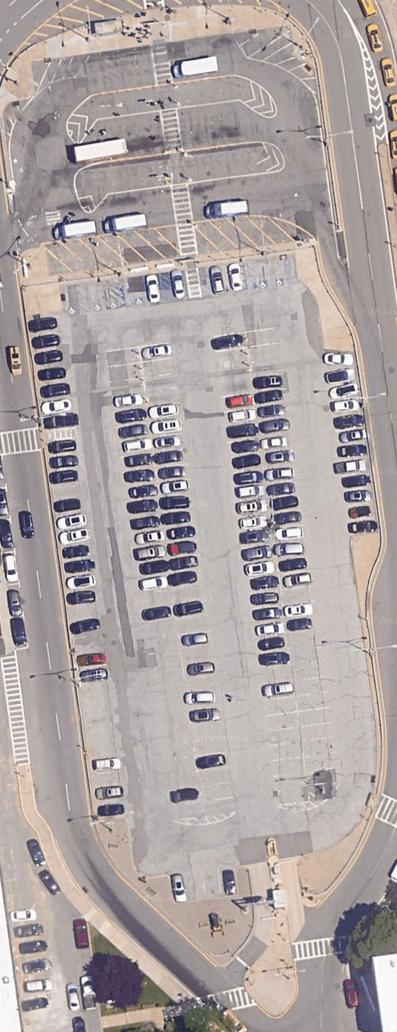parkingspot: (209, 330, 311, 808), (244, 325, 341, 787), (46, 435, 130, 821), (103, 345, 176, 624), (137, 341, 209, 621), (319, 346, 381, 539), (177, 629, 239, 817), (145, 633, 206, 823), (26, 314, 79, 433), (0, 453, 29, 651), (6, 905, 54, 1014), (59, 271, 165, 317), (168, 863, 239, 905), (197, 261, 244, 301), (251, 255, 290, 293), (169, 269, 191, 305)
